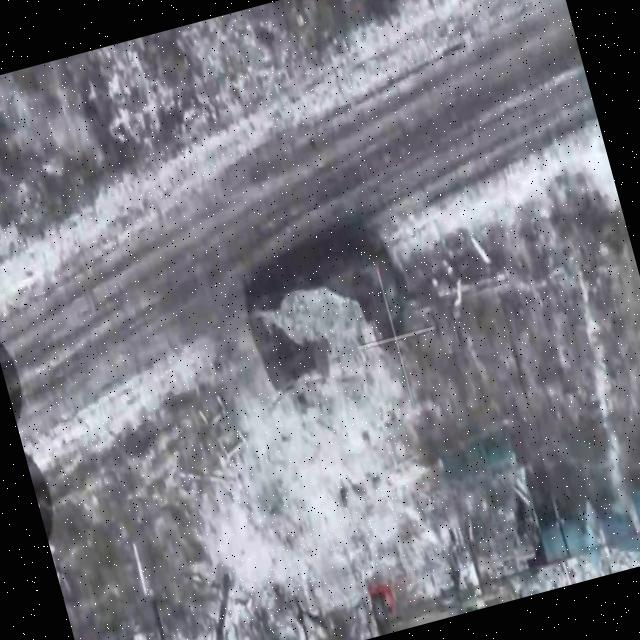AIFV: (234, 231, 426, 406)
